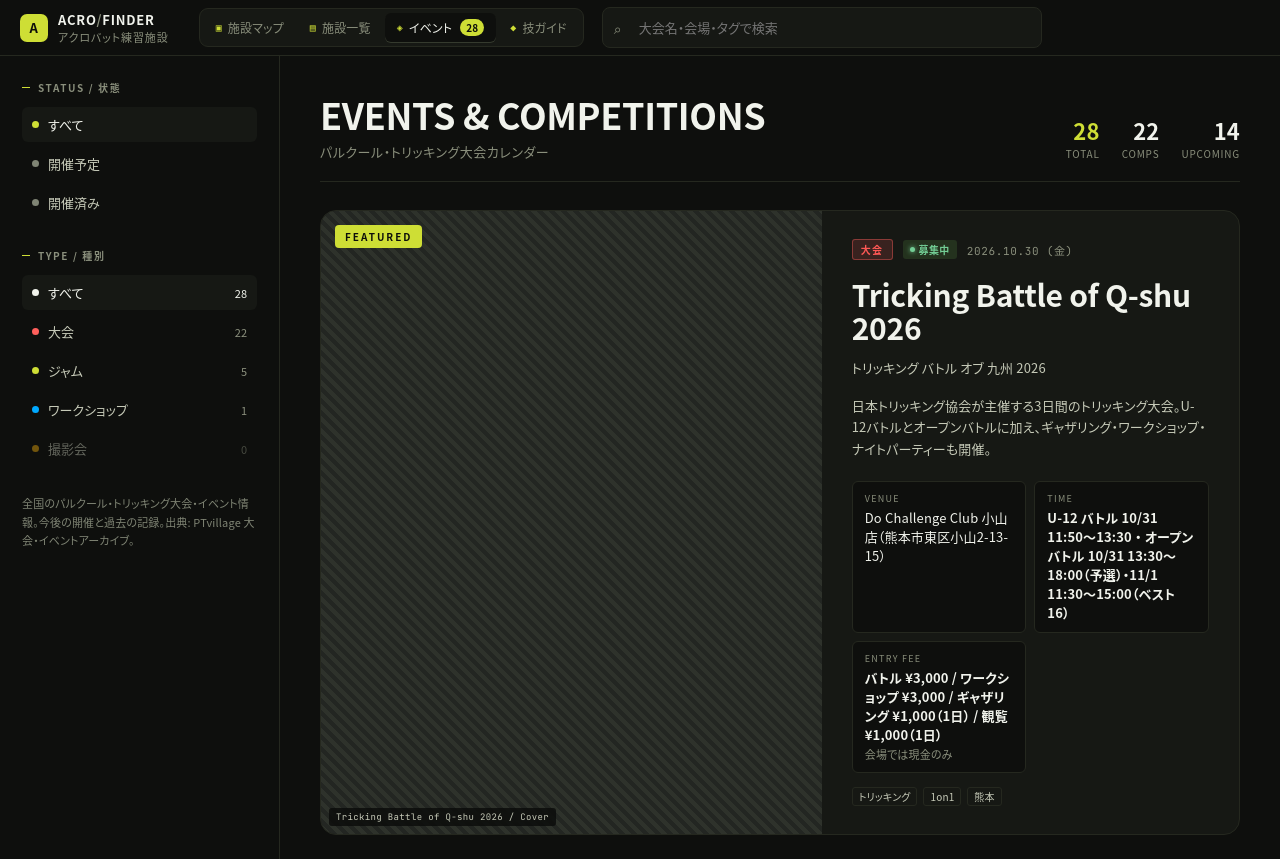
EventsFeed › filters by event type
Click the button with class "filter-row" showing "大会 22": point(140, 332) [22,314,257,349]
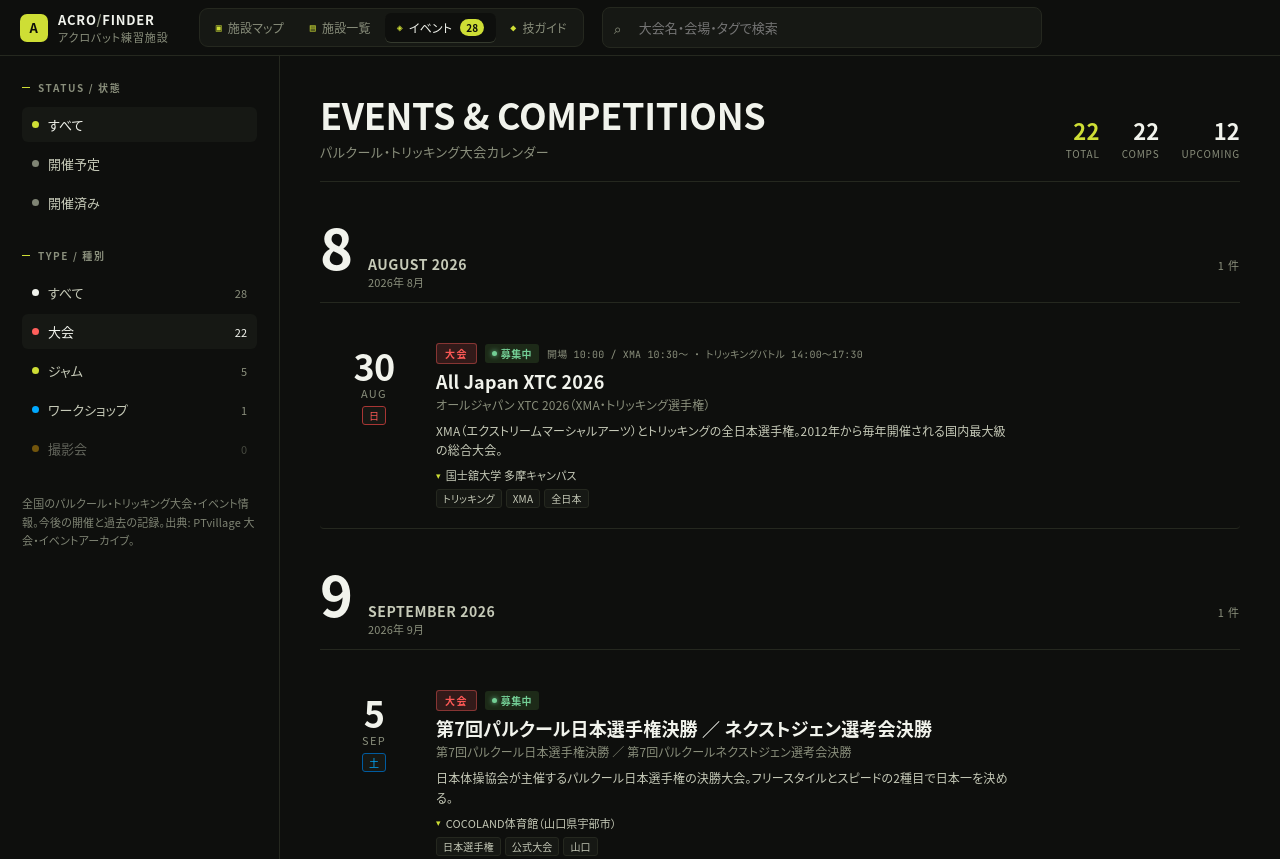
Expected: the text with class "accent" reads "22", [1073,114,1100,146]
